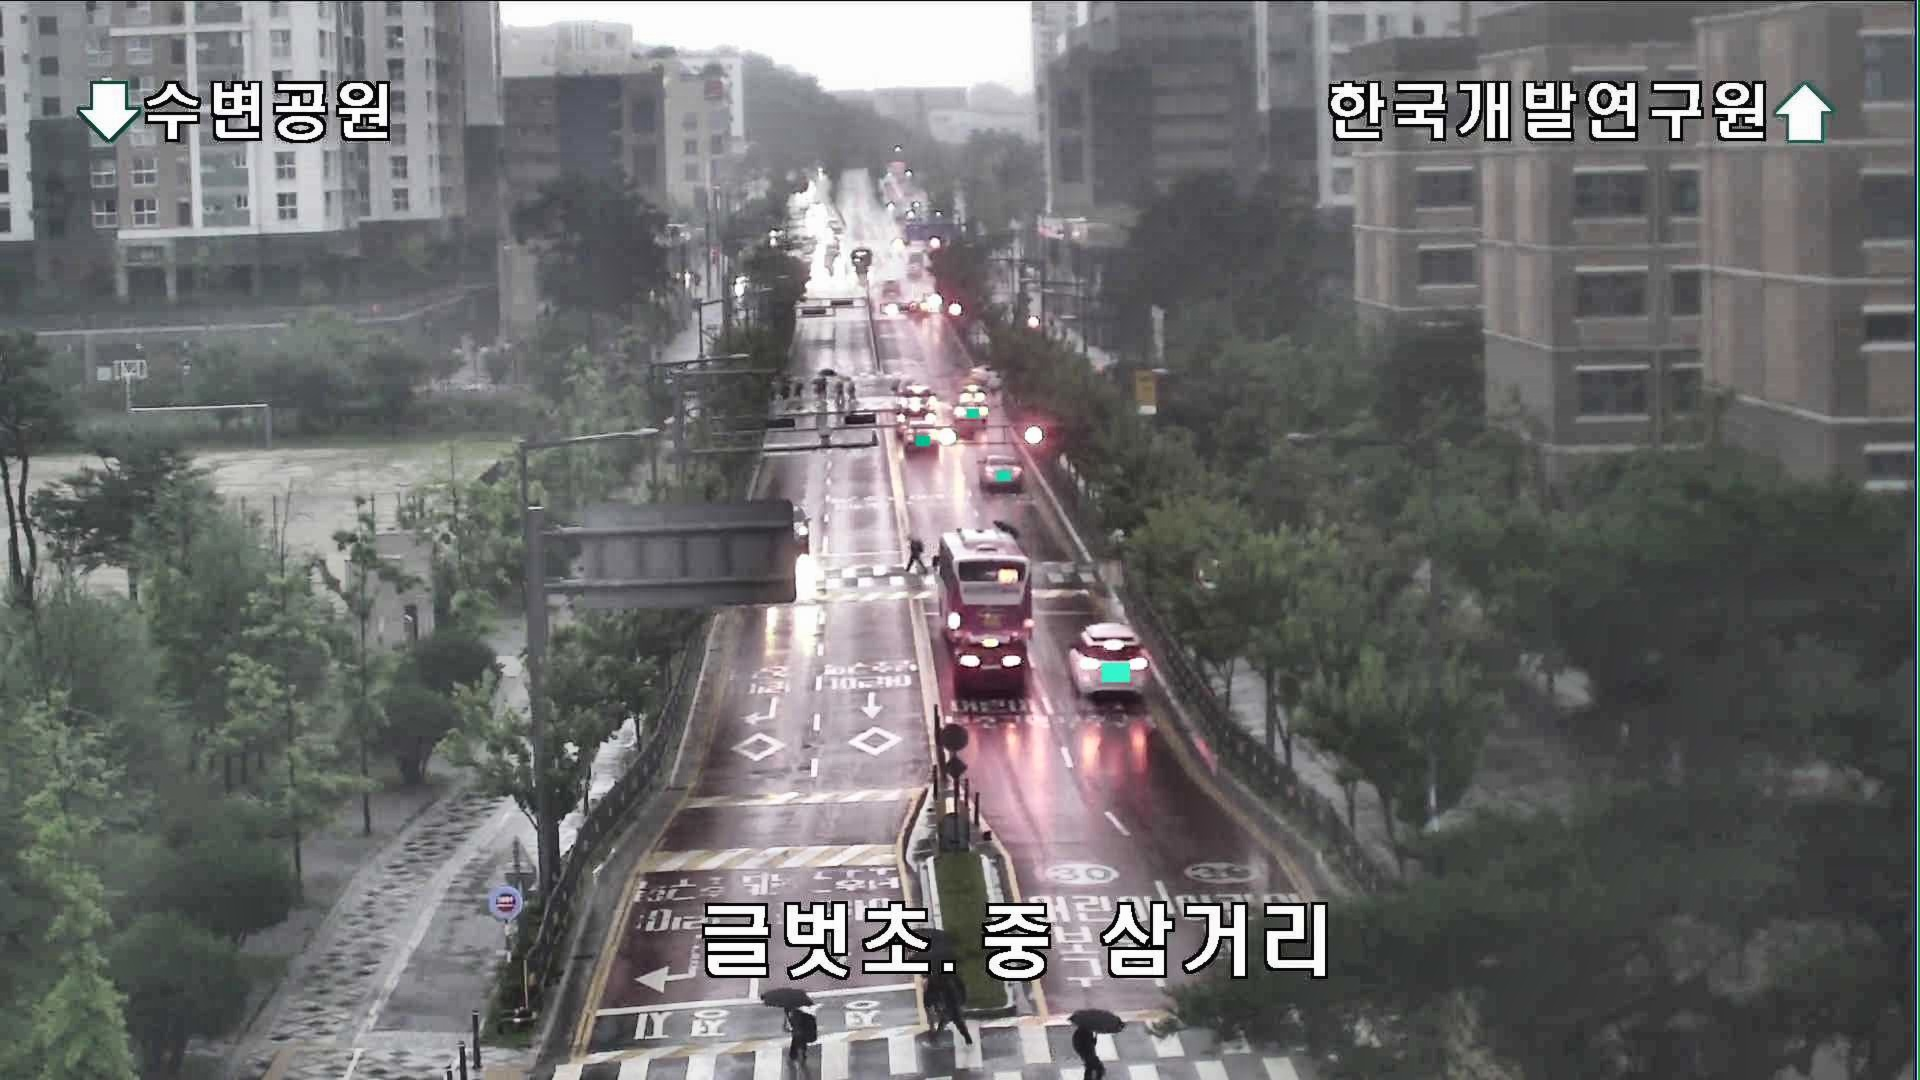um_crosswalk: (914, 949, 977, 1048), (760, 986, 820, 1080), (902, 920, 953, 1026), (1065, 1005, 1127, 1080), (901, 534, 931, 574)
